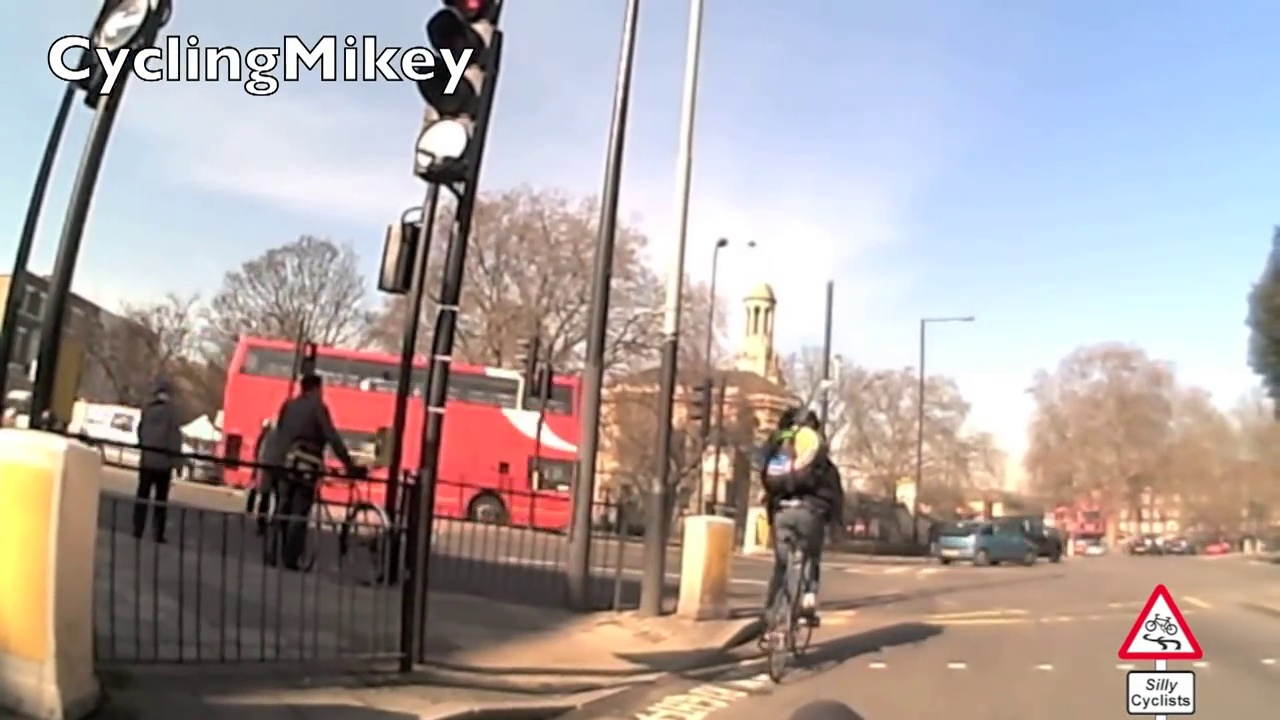cyclist_back: (753, 387, 825, 683)
